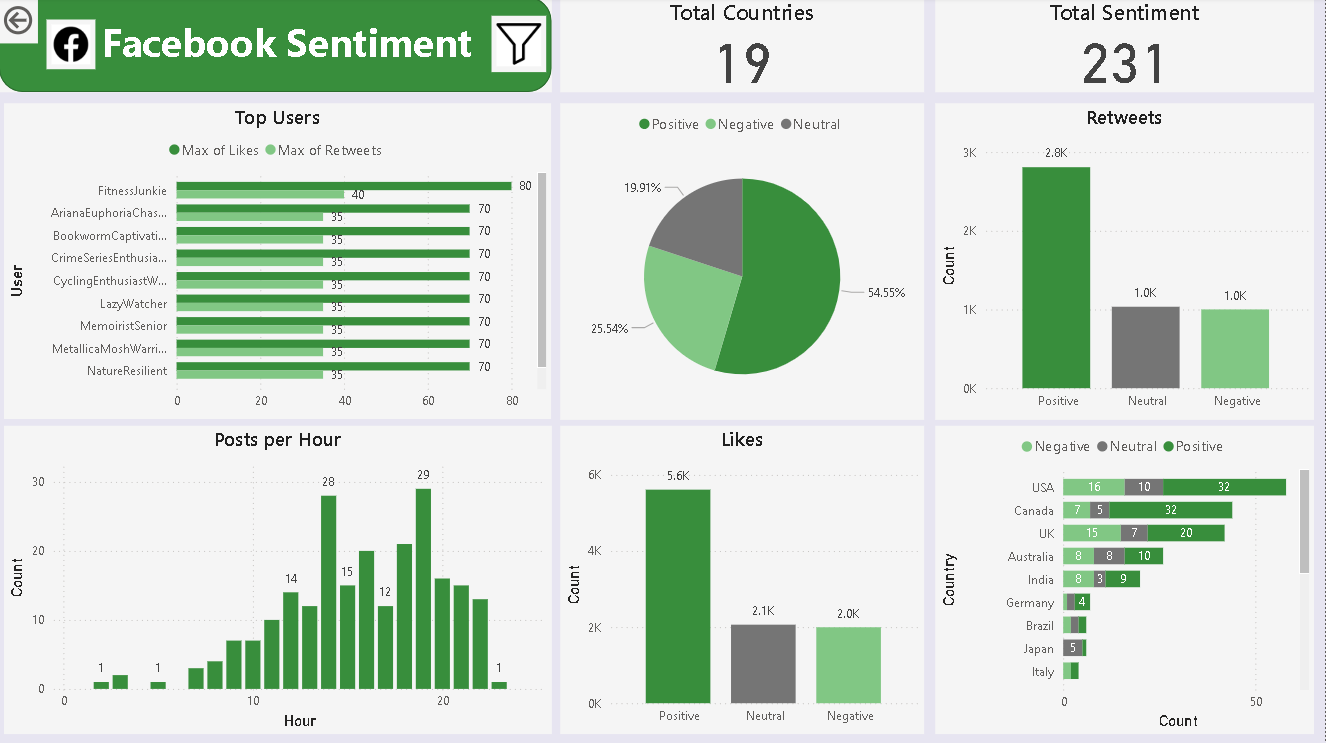

The dashboard page shown, as its layout file describes it:
{"tool":"powerbi","page":{"name":"face","canvas":[1280,720],"ordinal":1},"visuals":[{"type":"shape","box":[0,0,533.2,91.7],"z":0},{"type":"pieChart","fields":{"Category":["sentimentdataset.UnifiedSentiment"],"Y":["CountNonNull(sentimentdataset.Column1)"]},"box":[541.7,102.5,351.1,305.2],"z":1000},{"type":"columnChart","title":"Posts per Hour","fields":{"Category":["sentimentdataset.Hour"],"Y":["CountNonNull(sentimentdataset.Column1)"]},"box":[4.8,413.8,528.4,298],"z":2000},{"type":"columnChart","title":"Likes","fields":{"Y":["Sum(sentimentdataset.Likes)"],"Category":["sentimentdataset.UnifiedSentiment"]},"box":[541.7,413.8,351.1,298],"z":3000},{"type":"barChart","fields":{"Category":["sentimentdataset.Country"],"Y":["CountNonNull(sentimentdataset.Column1)"],"Series":["sentimentdataset.UnifiedSentiment"]},"box":[903.6,413.8,365.6,298],"z":4000},{"type":"card","title":"Total Countries","fields":{"Values":["Count(sentimentdataset.Country)"]},"box":[541.7,0,351.1,91.7],"z":5000},{"type":"card","title":"Total Sentiment ","fields":{"Values":["CountNonNull(sentimentdataset.Sentiment)"]},"box":[903.6,0,365.6,91.7],"z":6000},{"type":"clusteredBarChart","title":"Top Users","fields":{"Category":["sentimentdataset.User"],"Y":["Max(sentimentdataset.Likes)","Max(sentimentdataset.Retweets)"]},"box":[5,102,528,305],"z":7000},{"type":"columnChart","title":"Retweets","fields":{"Y":["Sum(sentimentdataset.Retweets)"],"Category":["sentimentdataset.UnifiedSentiment"]},"box":[903.6,102.5,365.6,305.2],"z":8000},{"type":"textbox","box":[84.5,13.3,390.9,63.9],"z":9000},{"type":"image","box":[45.8,21.7,47.1,48.3],"z":10000},{"type":"image","box":[475.3,18.1,53.1,54.3],"z":11000},{"type":"actionButton","box":[0,0,37.4,44.6],"z":13000}]}

Visuals, with their boxes in screenshot pixels (x1, y1, x2, y2), scaled from the page's 1280x720 canvas onto the 1326x743 screenshot:
shape: [0,0,552,95]
pieChart - sentimentdataset.UnifiedSentiment x CountNonNull(sentimentdataset.Column1): [561,106,925,421]
"Posts per Hour" columnChart: [5,427,552,735]
"Likes" columnChart: [561,427,925,735]
barChart - sentimentdataset.Country x CountNonNull(sentimentdataset.Column1): [936,427,1315,735]
"Total Countries" card: [561,0,925,95]
"Total Sentiment " card: [936,0,1315,95]
"Top Users" clusteredBarChart: [5,105,552,420]
"Retweets" columnChart: [936,106,1315,421]
textbox: [88,14,492,80]
image: [47,22,96,72]
image: [492,19,547,75]
actionButton: [0,0,39,46]
